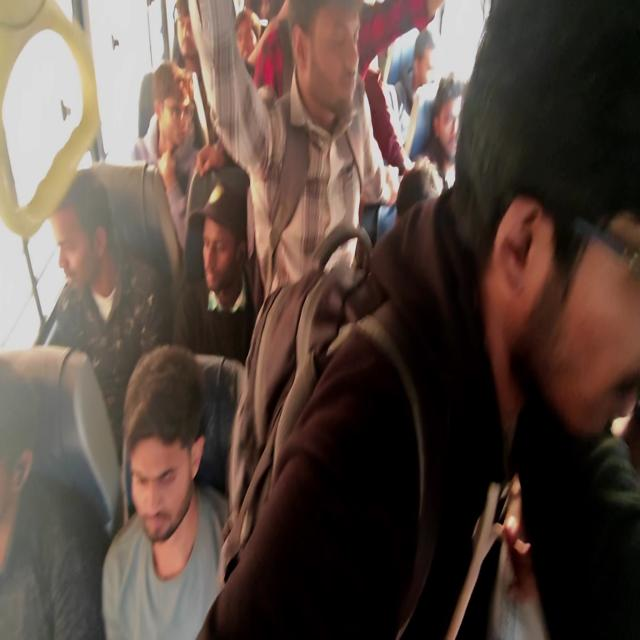person: (512, 74, 640, 465), (130, 380, 196, 532), (290, 8, 379, 115), (0, 347, 52, 514), (192, 182, 249, 298), (53, 192, 115, 286), (392, 166, 442, 236), (154, 71, 200, 140), (444, 80, 472, 158), (173, 15, 210, 74), (411, 33, 440, 91), (234, 20, 267, 62)
